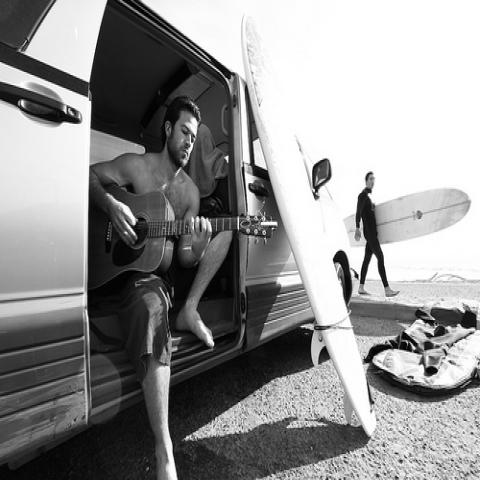car: (0, 1, 359, 473)
